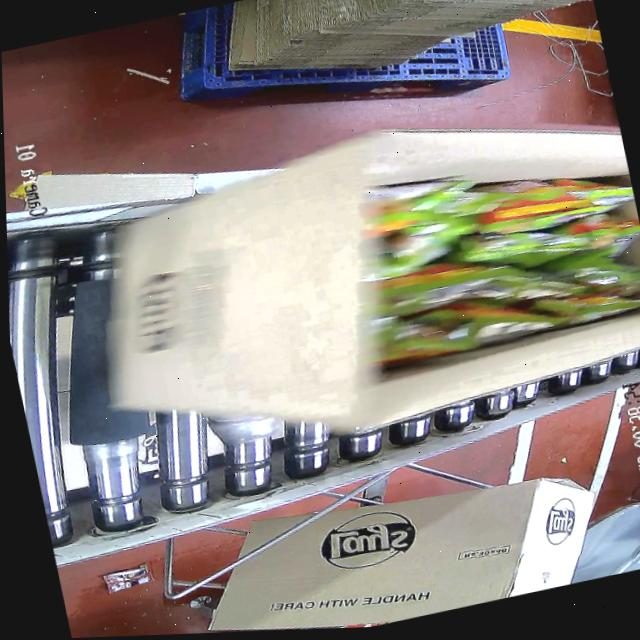YOGURT_HERB: (350, 133, 640, 377)
